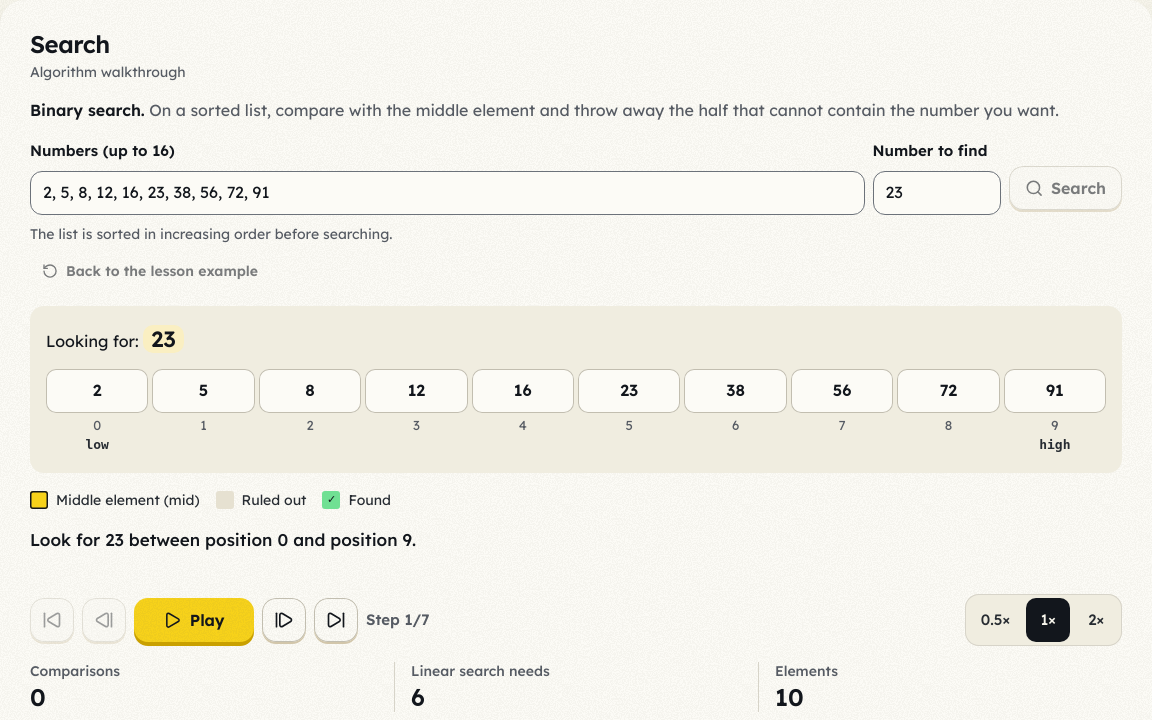
Test: binary search › narrows low/mid/high until the target is found
Click the button named "Next step": (284,620) [262,598,306,642]
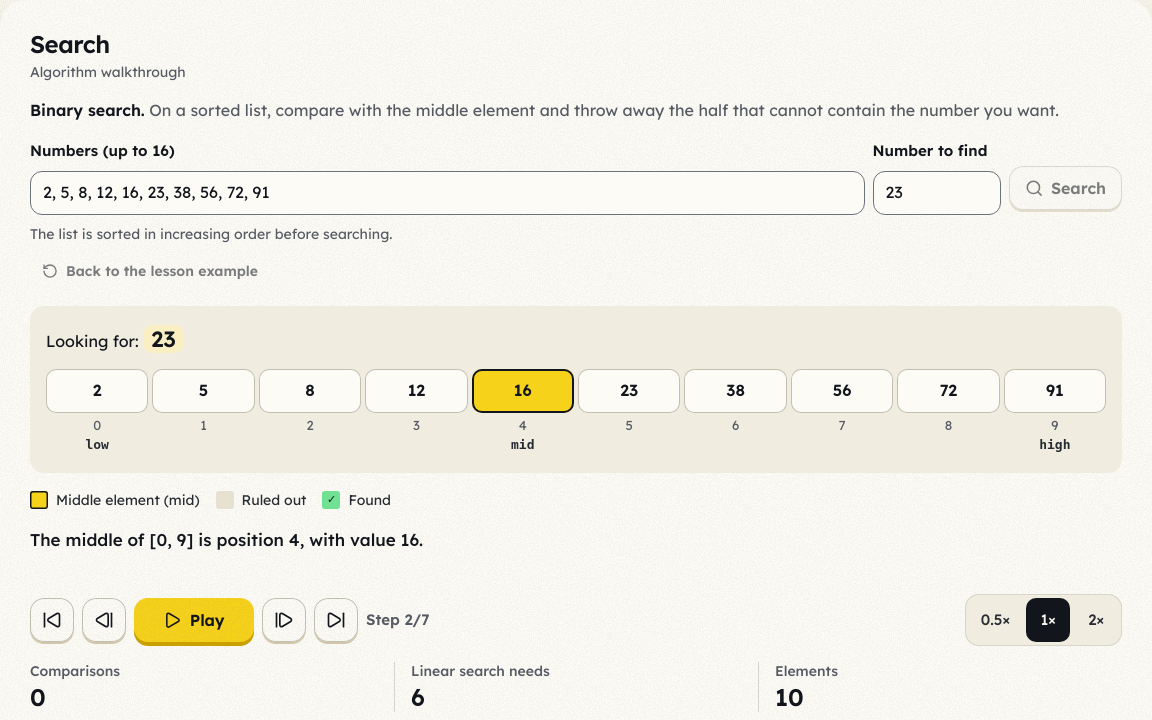
Expected: the text with class "alg-msg" reads "The middle of [0, 9] is position 4, with value 16.", [30,529,423,550]
Click the button named "Last step": (336,620) [314,598,358,642]
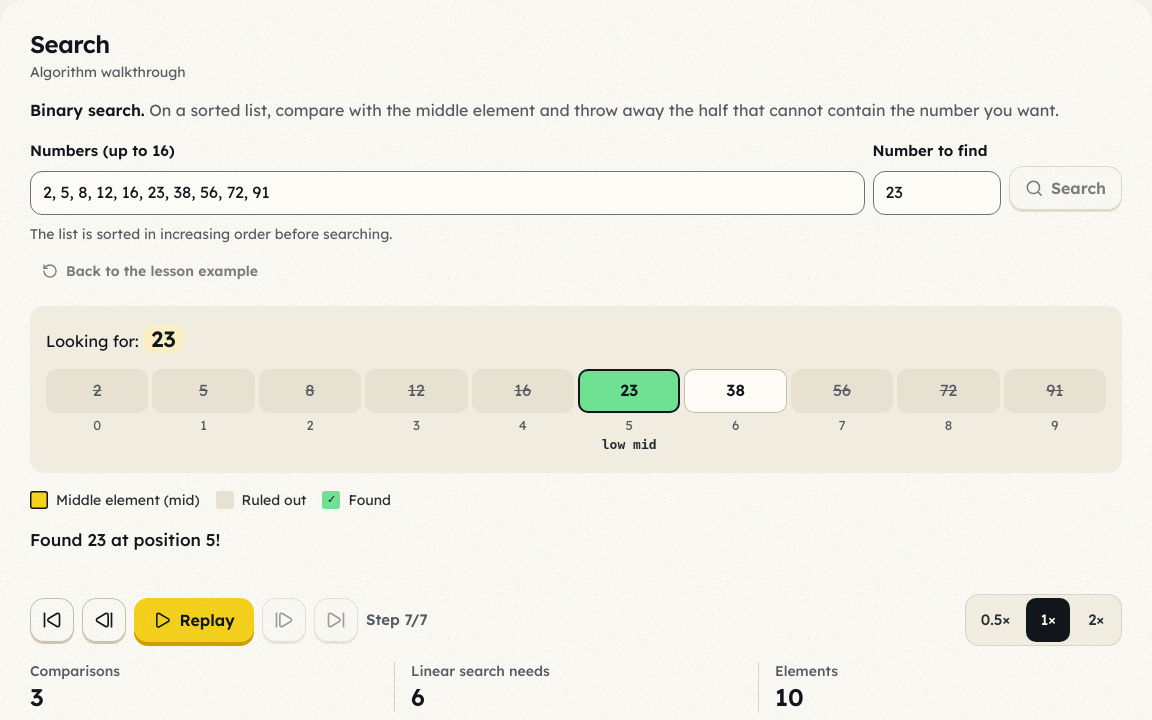
Expected: the text with class "alg-msg" reads "Found 23 at position 5!", [30,529,220,550]
